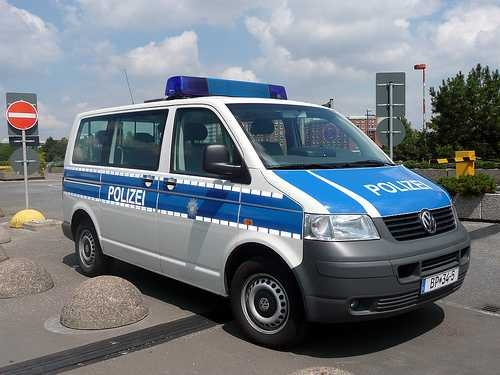Police Van: (53, 70, 453, 367)
